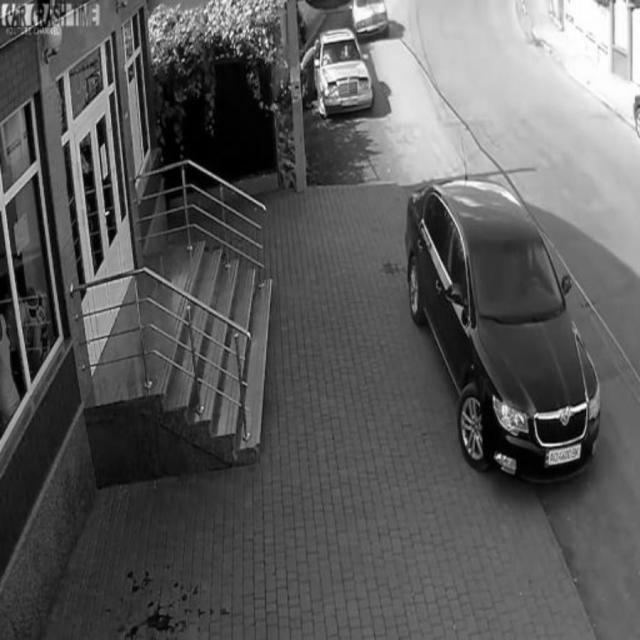vehicle: (406, 179, 601, 490), (321, 32, 376, 116), (351, 0, 388, 38)
